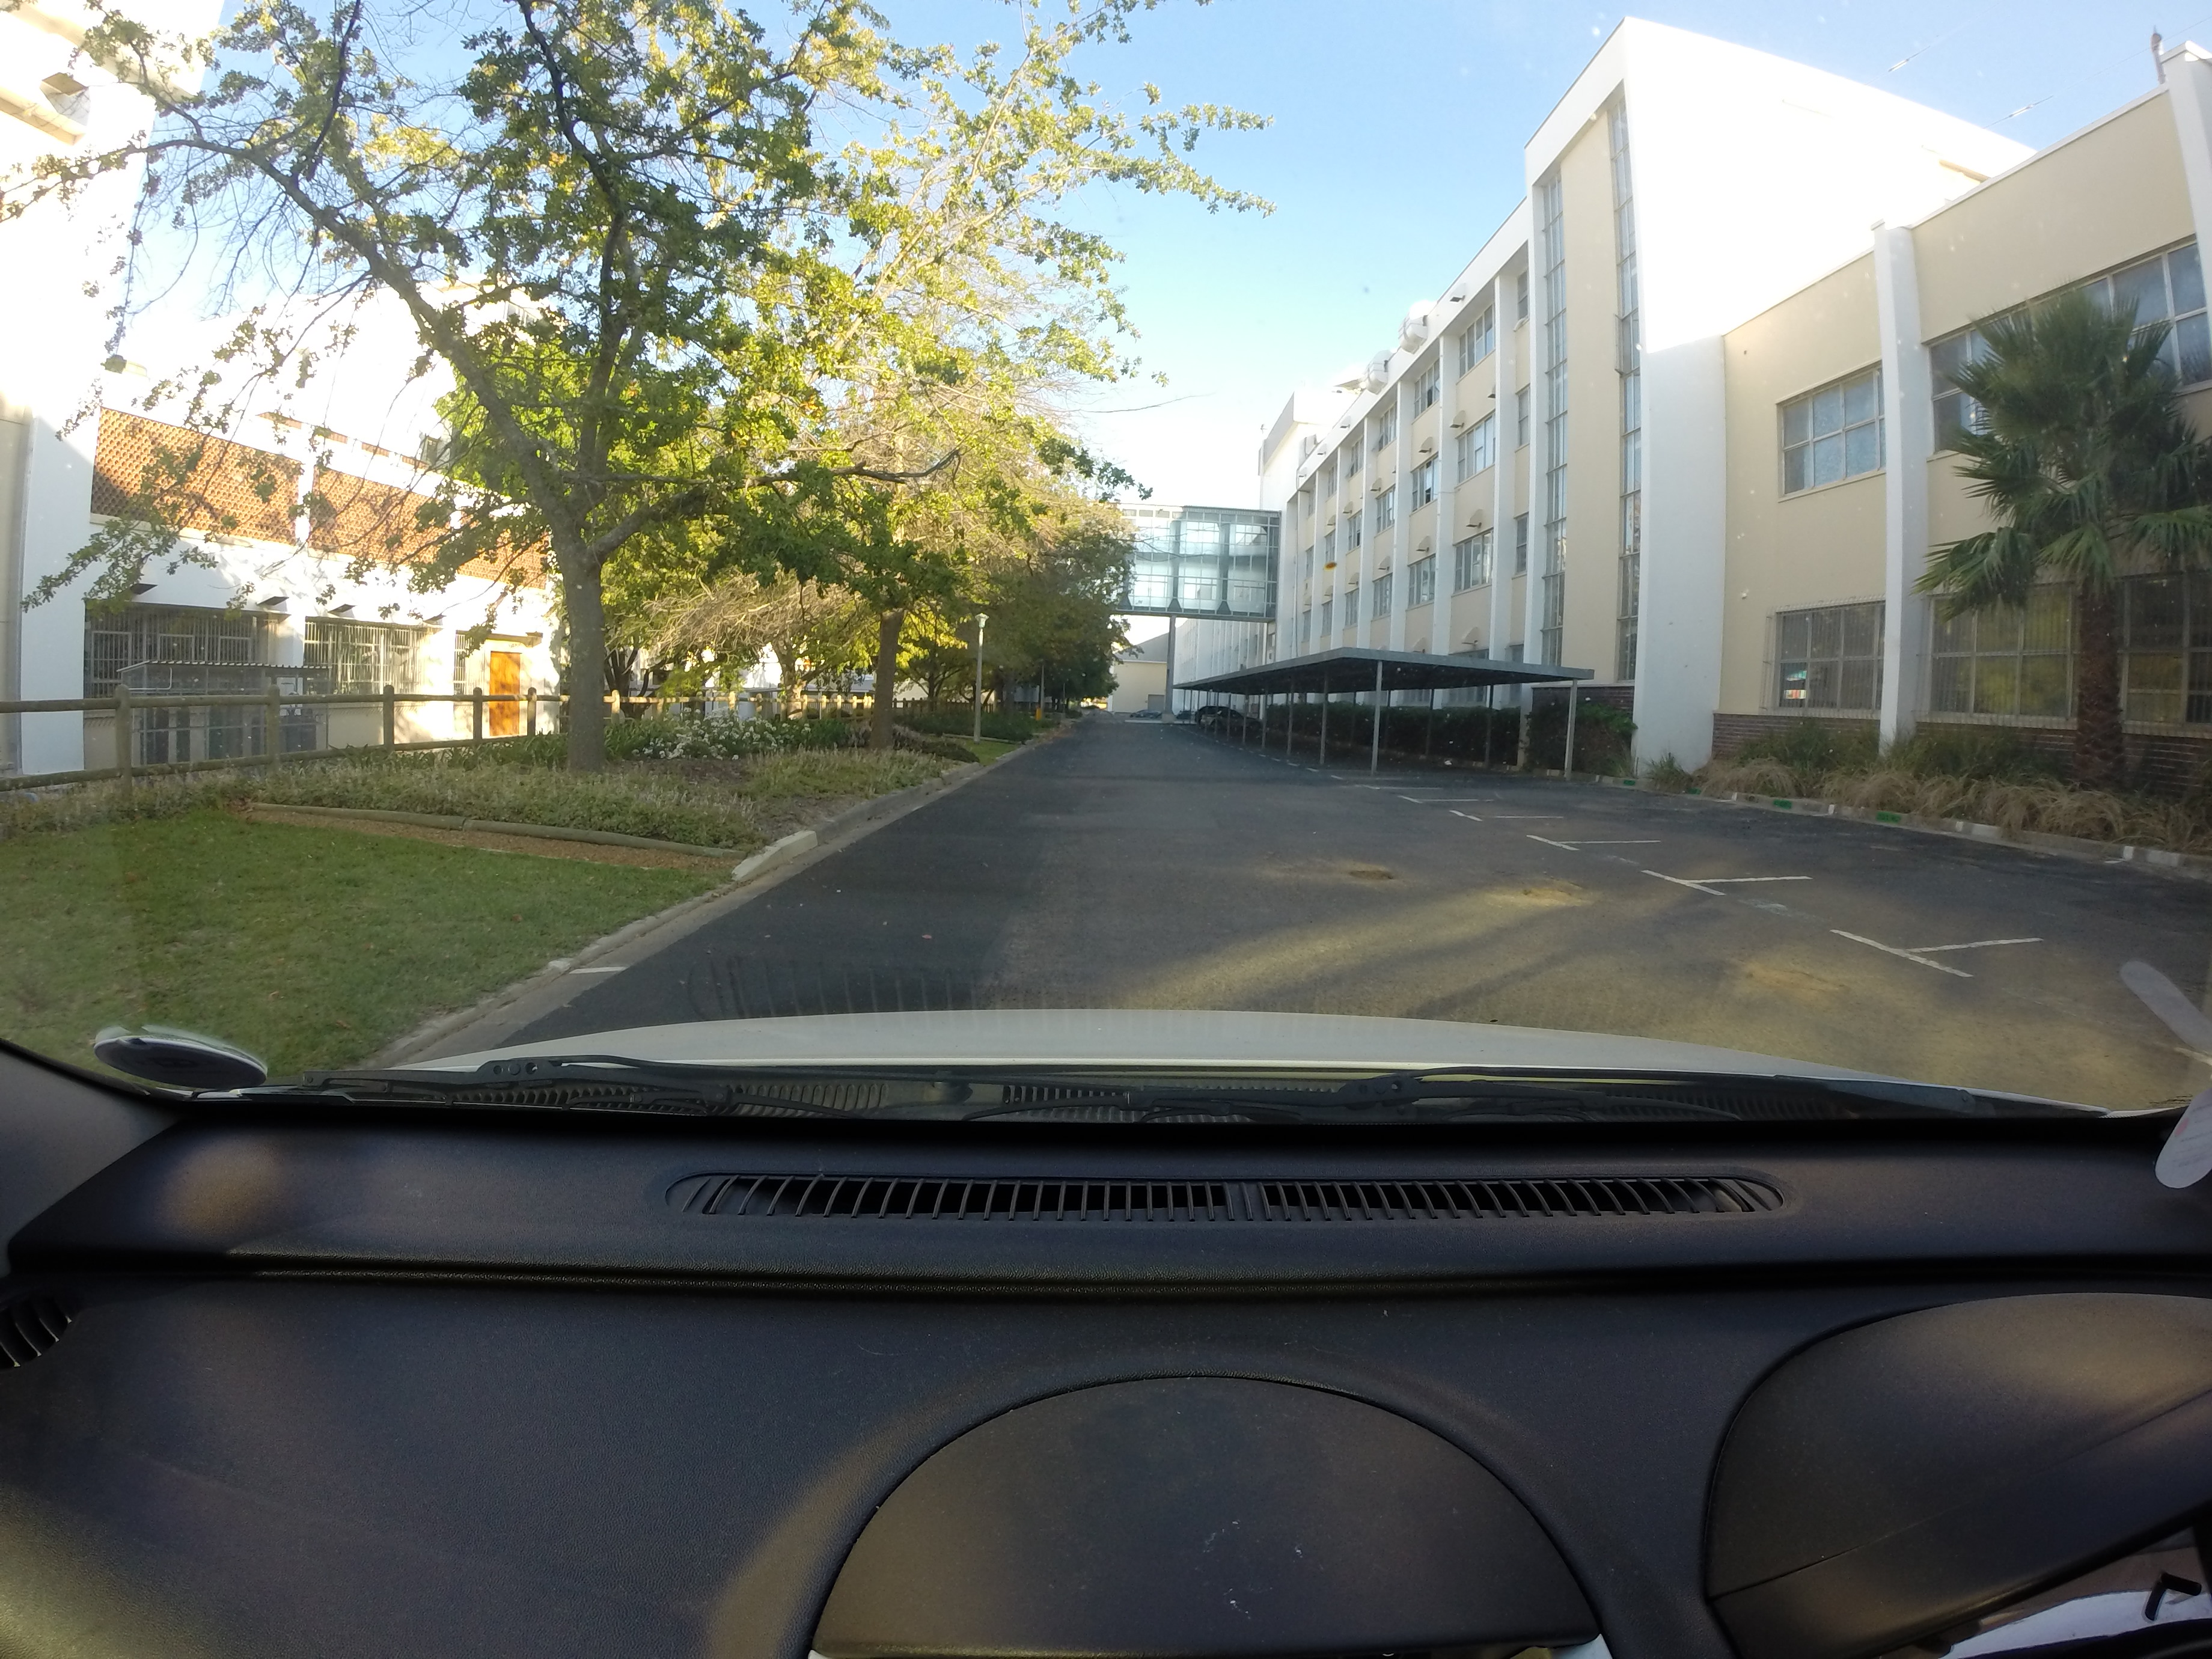pothole: (1327, 861, 1425, 894)
